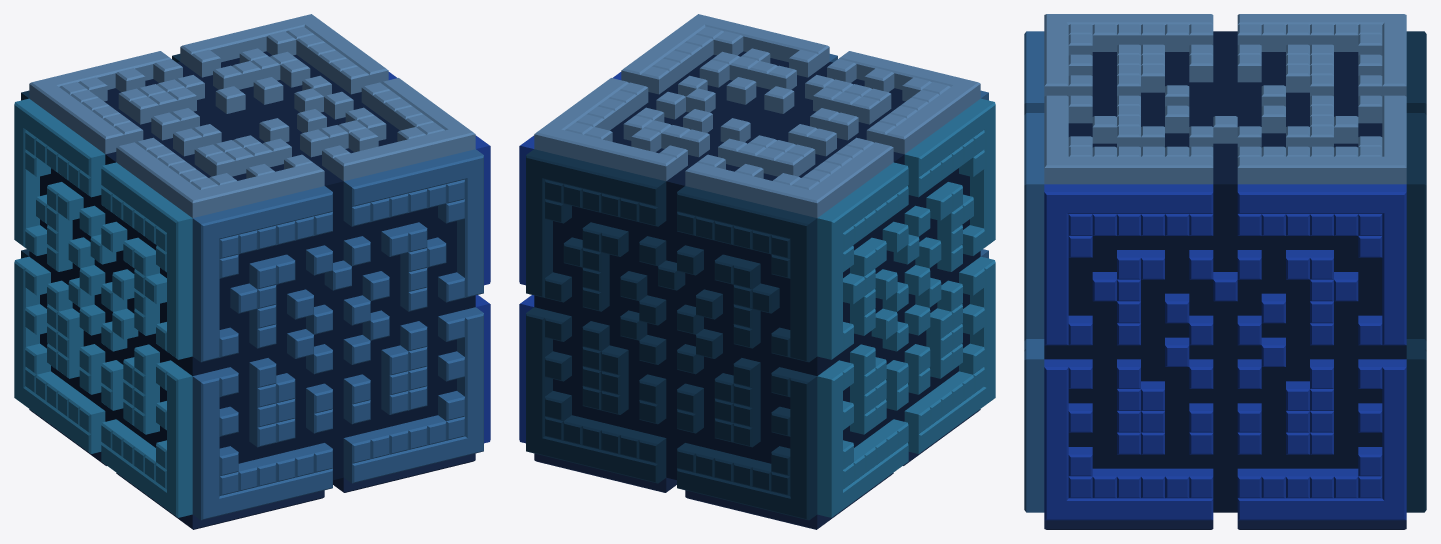
Rendered from Level1BlockoutScoggins.fbx.
3 views of the same model, side by side, from view 1: azimuth 30°, elevation 25°; view 2: azimuth 150°, elevation 25°; view 3: azimuth 270°, elevation 25° (orthographic). The views are drawn at different scales.
Parts seen in each view (by area): view 1: wall_Length_Straight_Wall6, wall_Length_Straight_Wall5, wall_Length_Straight_Wall10, Cube_1, wall_Length_Straight_Wall9, wall_Length_Straight_Wall7; view 2: wall_Length_Straight_Wall8, wall_Length_Straight_Wall5, wall_Length_Straight_Wall10, Cube_1, wall_Length_Straight_Wall9, wall_Length_Straight_Wall7; view 3: wall_Length_Straight_Wall7, Cube_1, wall_Length_Straight_Wall10, wall_Length_Straight_Wall8, wall_Length_Straight_Wall6, wall_Length_Straight_Wall9.
Part boxes in pixels (<box>): wall_Length_Straight_Wall6: <box>192,149,483,520</box>; wall_Length_Straight_Wall5: <box>14,98,192,517</box>; wall_Length_Straight_Wall10: <box>29,14,475,217</box>; Cube_1: <box>29,51,475,479</box>; wall_Length_Straight_Wall9: <box>29,409,475,529</box>; wall_Length_Straight_Wall7: <box>388,72,490,443</box>; wall_Length_Straight_Wall8: <box>526,149,817,520</box>; wall_Length_Straight_Wall5: <box>817,98,995,517</box>; wall_Length_Straight_Wall10: <box>534,14,980,217</box>; Cube_1: <box>534,51,980,479</box>; wall_Length_Straight_Wall9: <box>534,409,980,529</box>; wall_Length_Straight_Wall7: <box>519,72,621,443</box>; wall_Length_Straight_Wall7: <box>1044,184,1406,520</box>; Cube_1: <box>1044,31,1406,512</box>; wall_Length_Straight_Wall10: <box>1044,14,1406,184</box>; wall_Length_Straight_Wall8: <box>1406,31,1426,512</box>; wall_Length_Straight_Wall6: <box>1024,31,1044,512</box>; wall_Length_Straight_Wall9: <box>1044,520,1406,529</box>.
Bounding box in the file's own units: 50.03 × 50.03 × 50.03.
